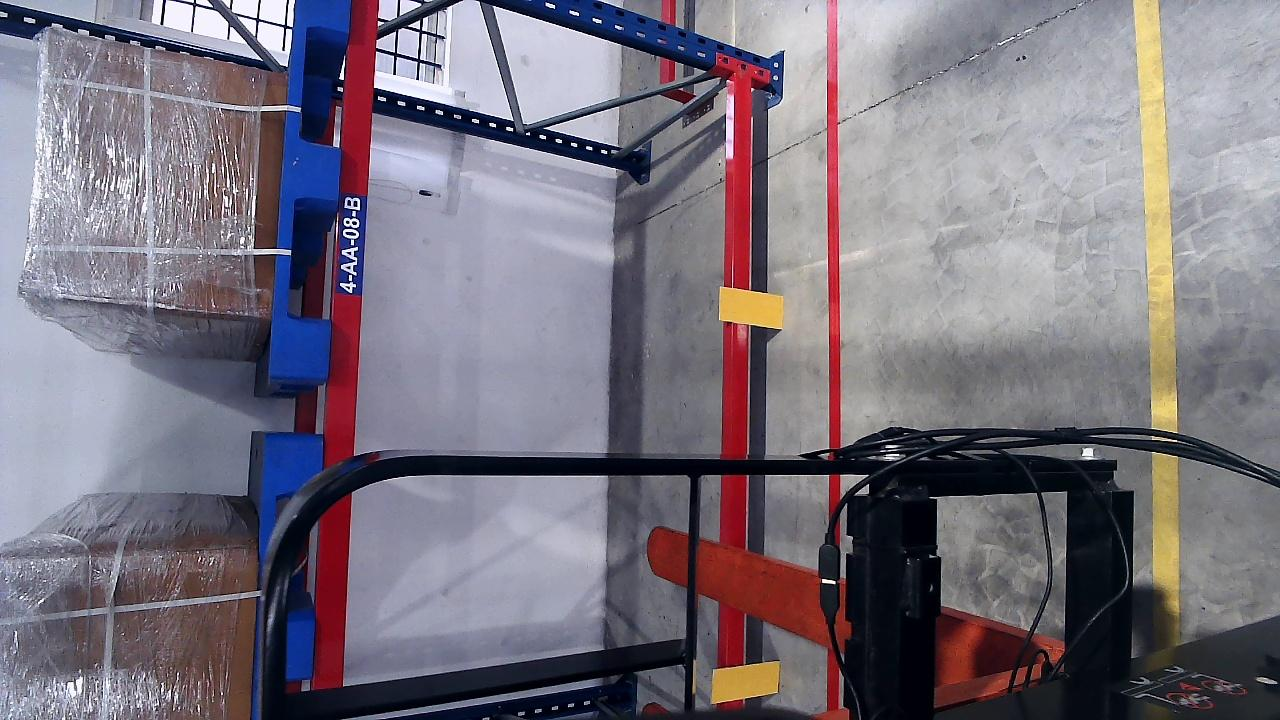h_rack: (343, 2, 380, 465), (728, 73, 758, 455)
orange_strip: (710, 660, 780, 702), (719, 287, 784, 329)
red_line: (822, 84, 844, 421)
small_pallet: (275, 1, 351, 378)
yellow_line: (1133, 0, 1180, 431)
